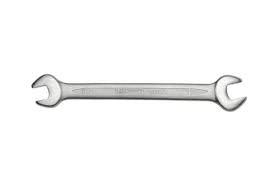wrench: (29, 71, 248, 112)
